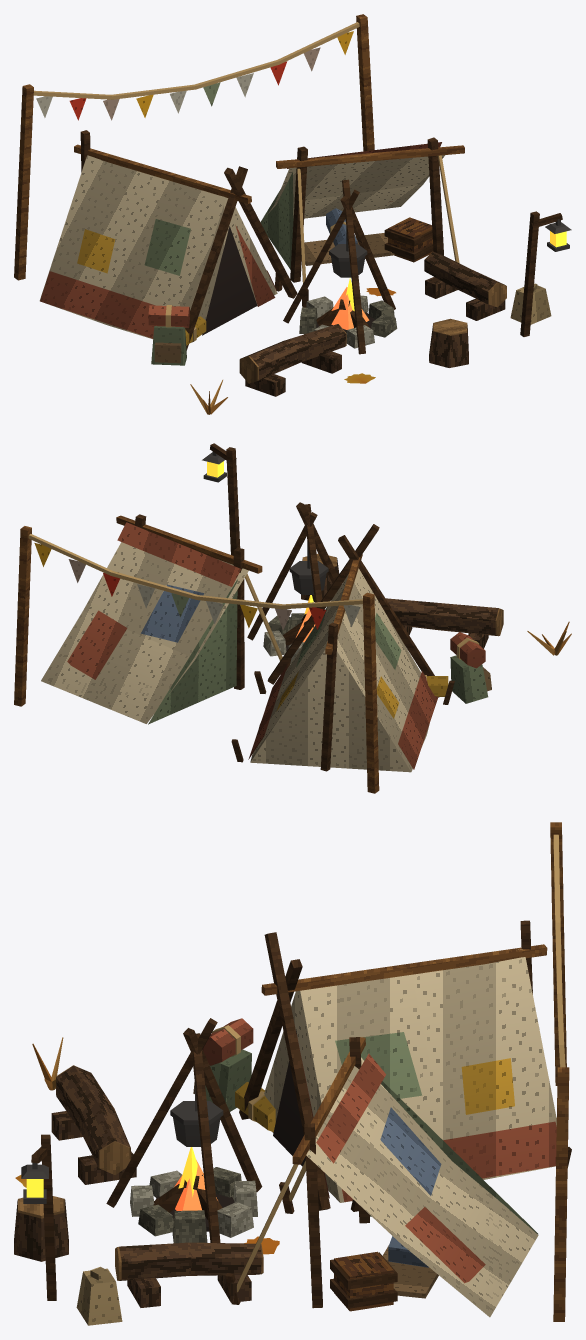
File: camp_1.glb
3 renders of one model, top to bottom at view 1: azimuth 30°, elevation 25°; view 2: azimuth 150°, elevation 25°; view 3: azimuth 270°, elevation 25°, orthographic. The views are drawn at different scales.
Visible parts, largest first — view 1: camp_1, glow_fire; view 2: camp_1; view 3: camp_1, glow_fire.
Part boxes in pixels (bbox=[...]): camp_1: bbox=[14, 14, 571, 414]; glow_fire: bbox=[331, 278, 369, 329]; camp_1: bbox=[14, 443, 571, 793]; camp_1: bbox=[14, 822, 571, 1325]; glow_fire: bbox=[174, 1147, 217, 1210].
Bounding box in the file's own units: 5.57 × 2.78 × 5.28.
29 materials, 19 textured.
